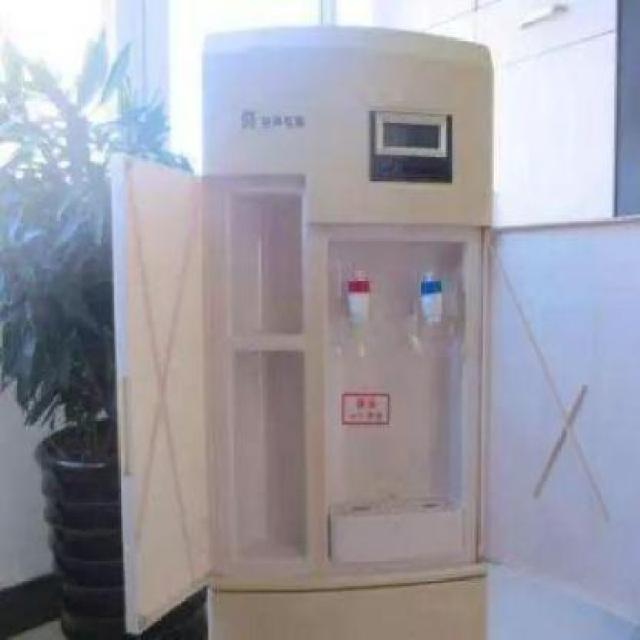cooler: (192, 21, 496, 640)
